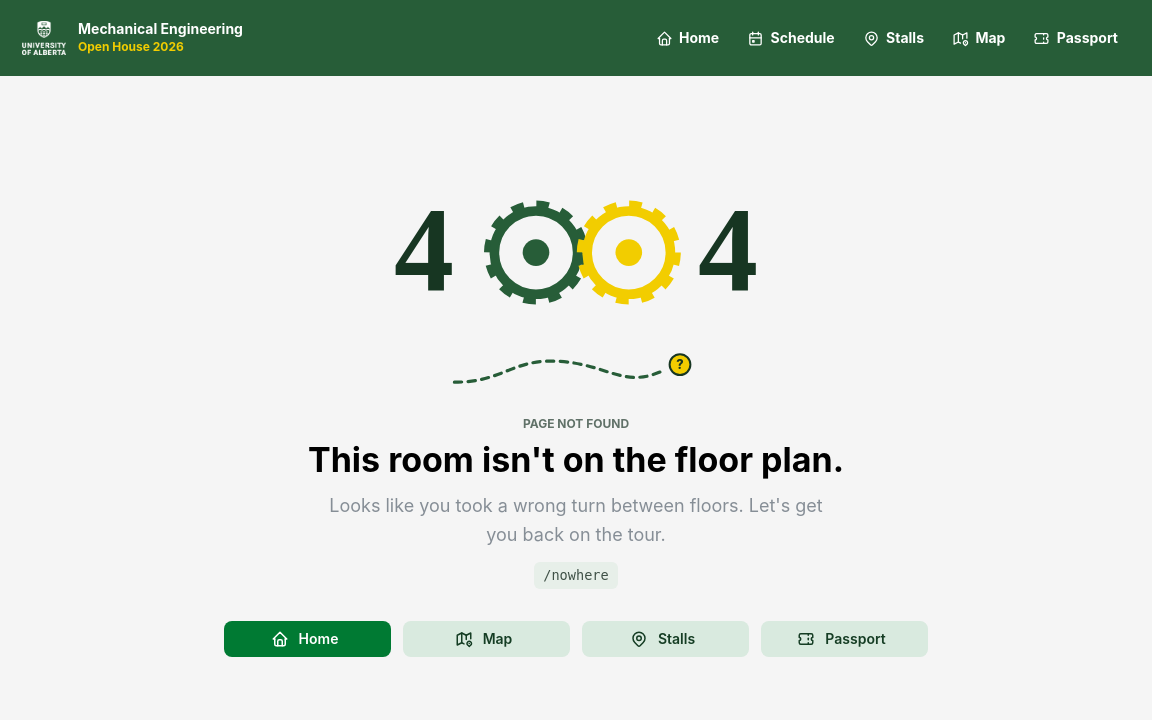
Scenario: 404 page › spins the gears when tapped
Click the button named "Spin the gears" at {"x": 576, "y": 251}, box [368,163,784,339]
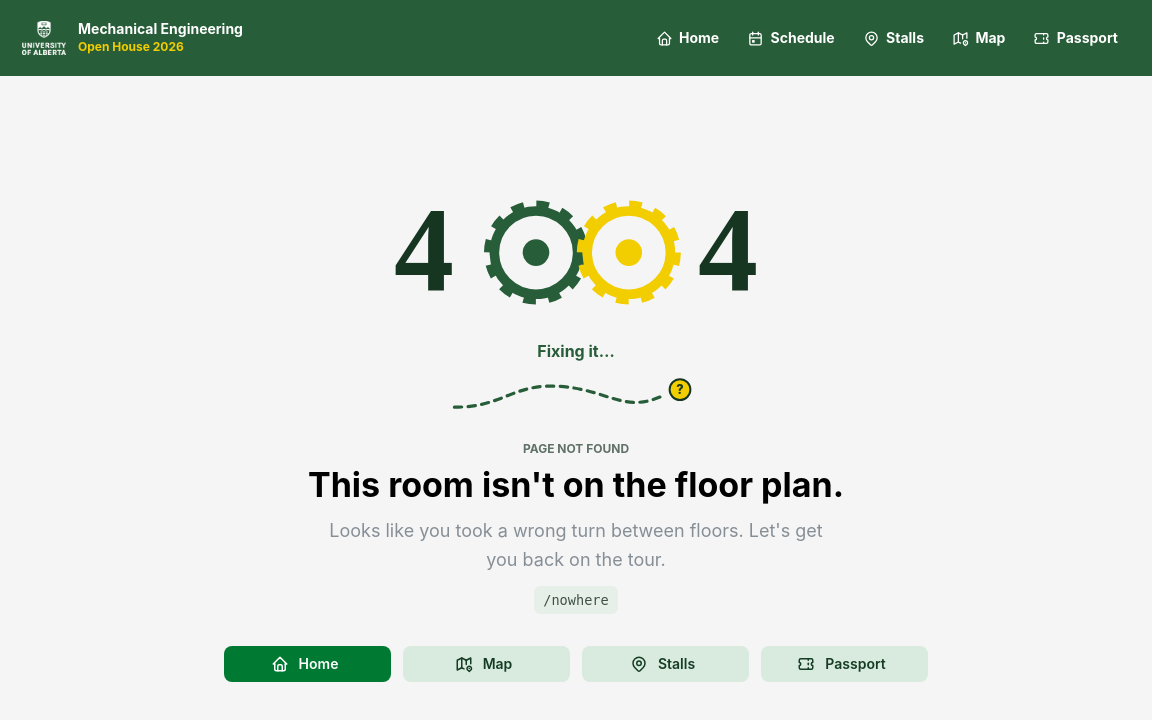
Expected: the text "Fixing it…" is shown, [537,339,615,364]
